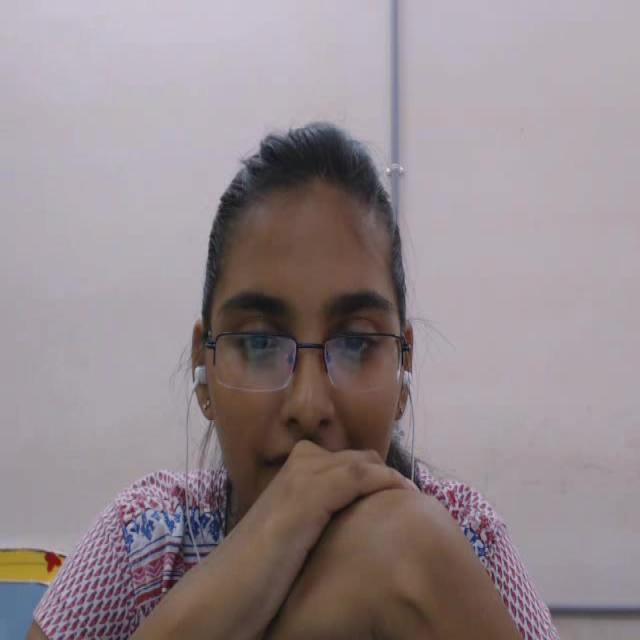Bored: (160, 122, 457, 562)
